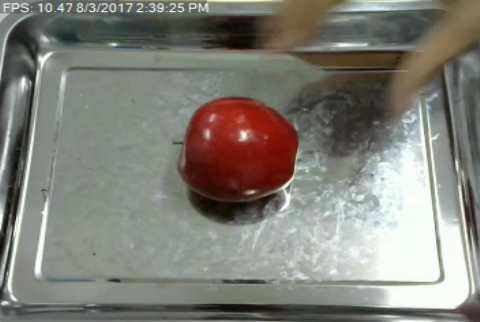Apple: (175, 93, 299, 208)
